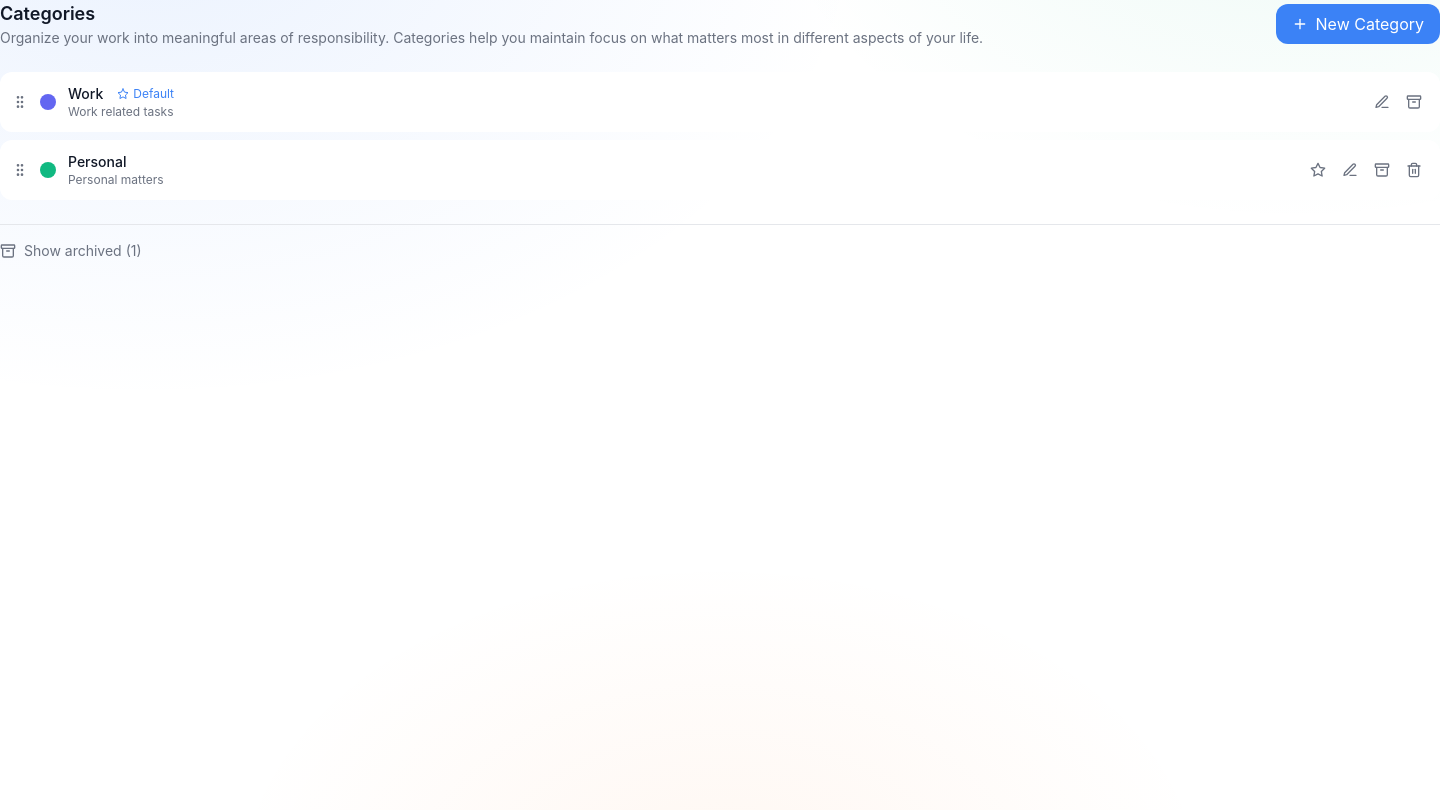
Test: LifeAreasManager › Delete Life Area › closes confirmation modal on cancel
Click the button titled "Delete" at (1414, 170), box [1400,156,1428,184]
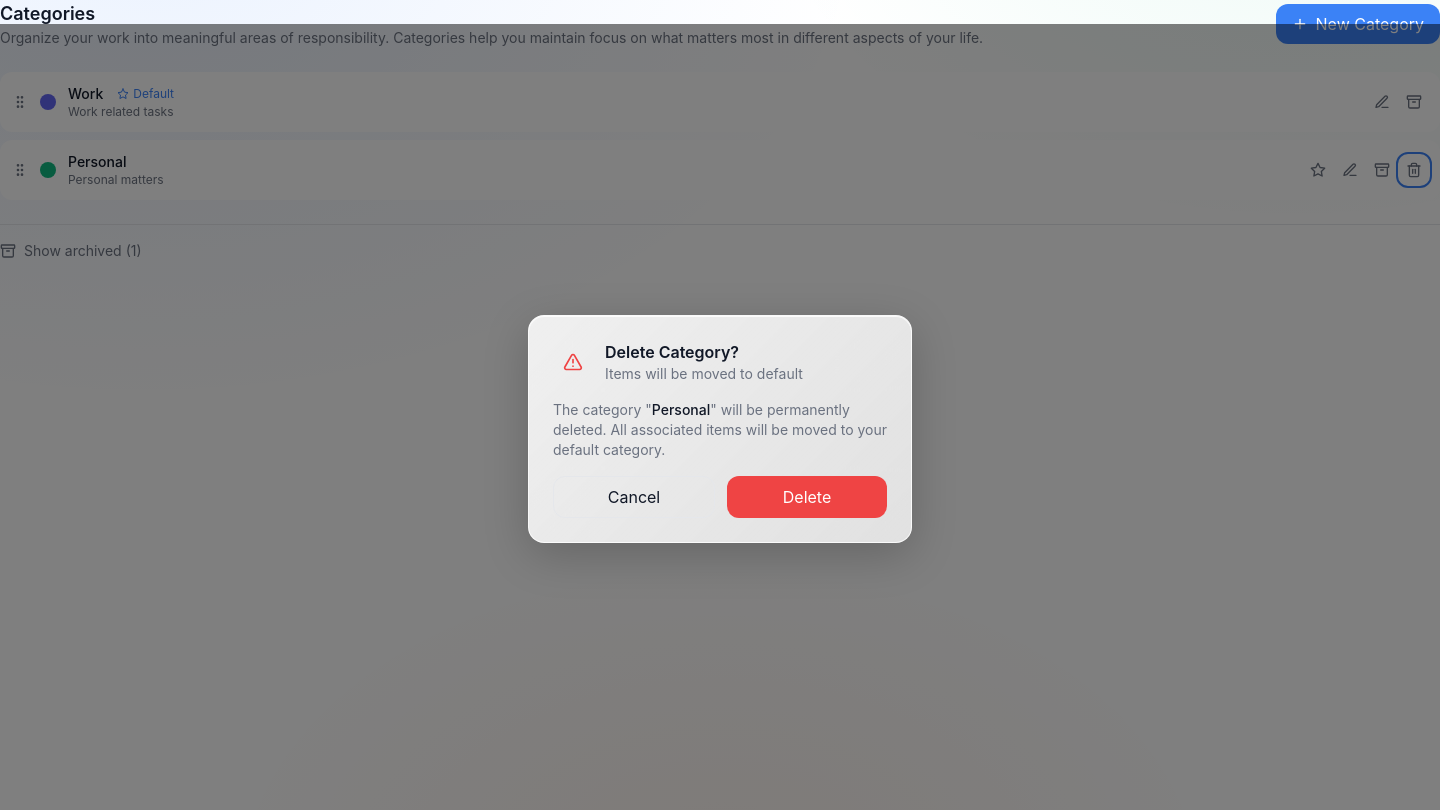
Click the button "Cancel" at (634, 497), box [553,476,715,518]
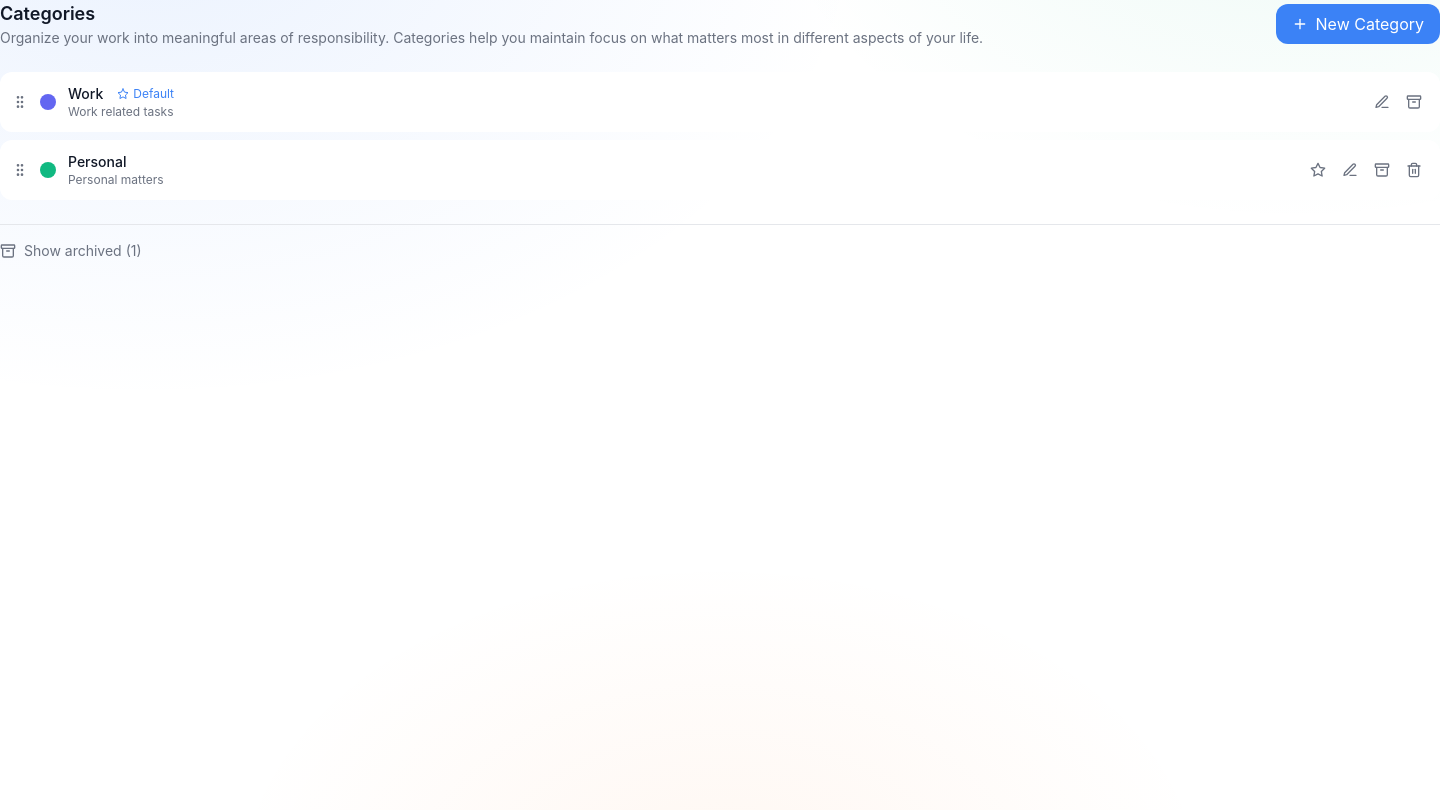
Check: the heading "Delete Category?" is gone
